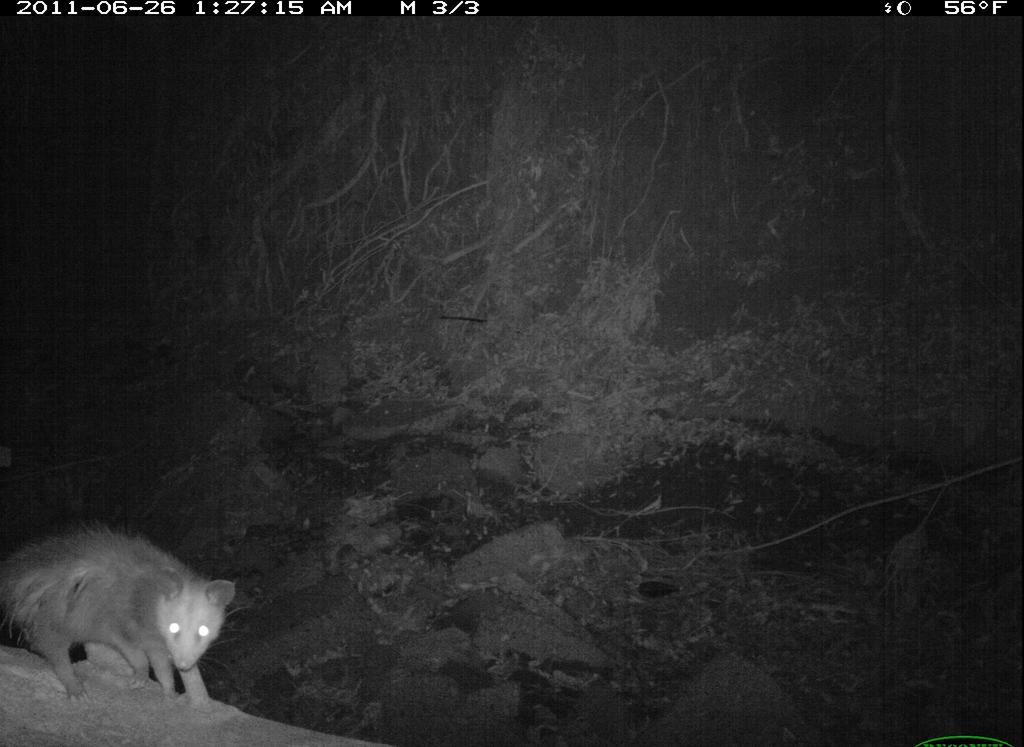opossum: (1, 518, 241, 714)
